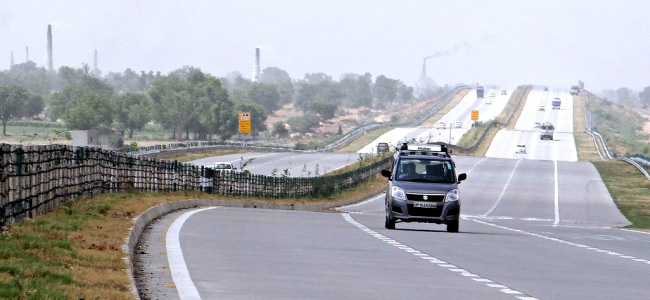car: (380, 141, 469, 241)
